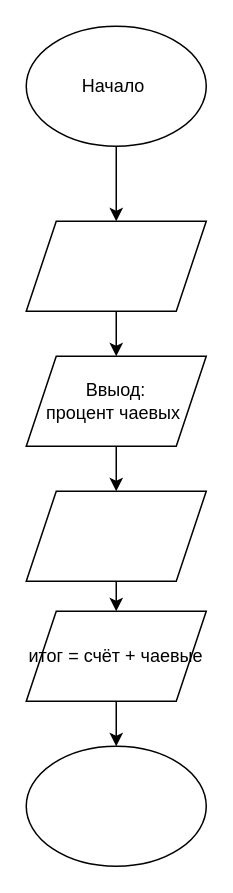
Image size: 233x893. Some labels were removed from this diagram. The shapes that lost their labels are listed below. From the top down, each one's box as (x1, y1, x2, y2) in pixels, then its label:
(25, 220, 206, 311): Вывод: процент чаевых
(25, 490, 206, 581): Вычисление: чаевые = счёт x процент / 100
